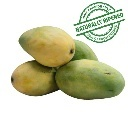mango: (54, 59, 128, 99), (18, 26, 78, 67), (10, 59, 66, 97)
